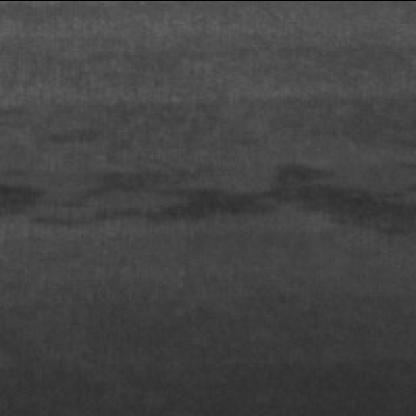inclusion: (8, 160, 416, 250)
